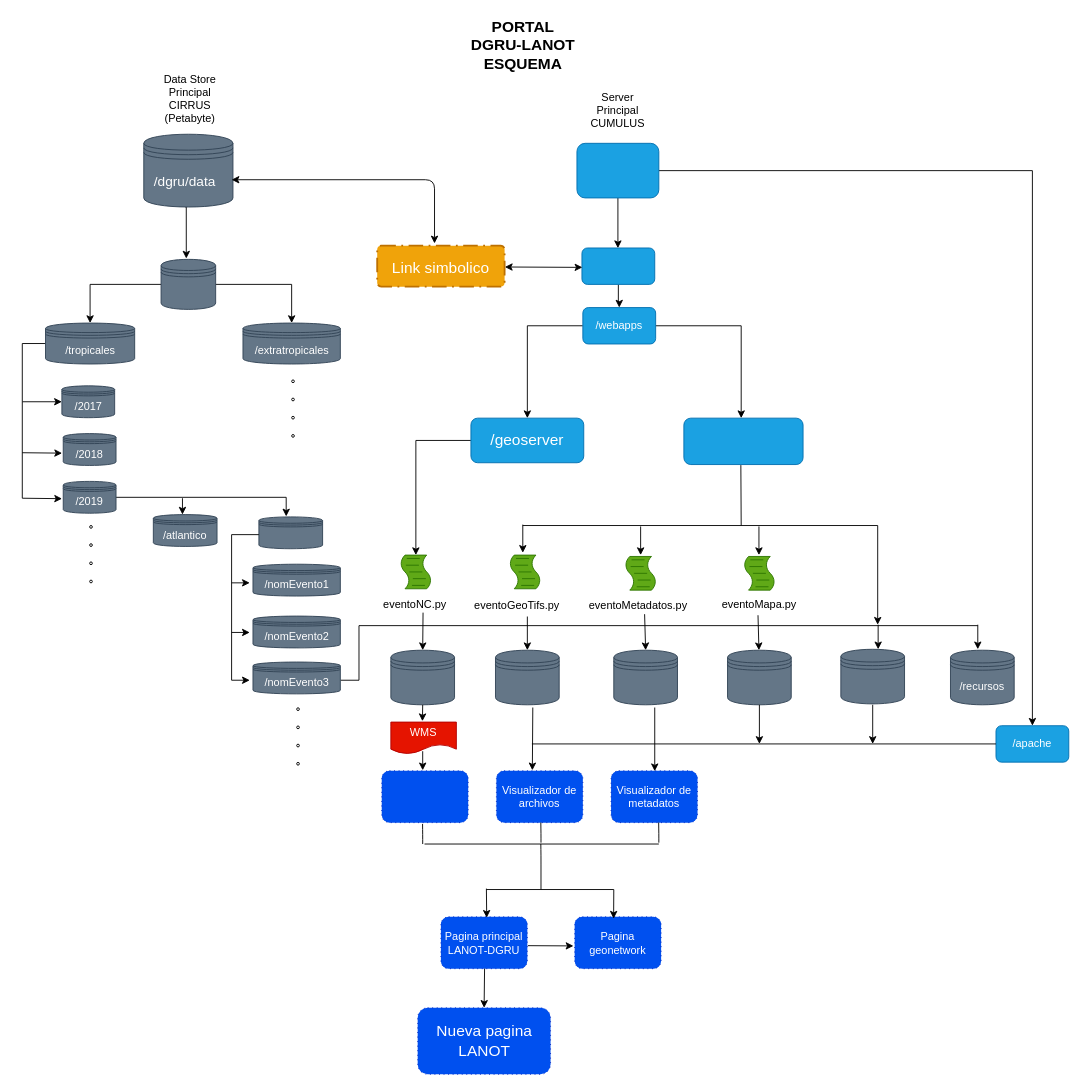
The diagram is 1085 pixels wide and 1090 high, and some of its shapes have lost their labels. Each missing label, with the centre of its shape:
"/eventoNC" belongs at (x=422, y=677).
"/eventos" belongs at (x=188, y=283).
"/geonetwork" belongs at (x=743, y=441).
"/geoTIFF" belongs at (x=527, y=677).
"/mapa" belongs at (x=759, y=677).
"/metadatos" belongs at (x=645, y=677).
"/opt" belongs at (x=617, y=170).
"/pacifico" belongs at (x=290, y=532).
"/tomcat" belongs at (x=618, y=265).
"/videos" belongs at (x=872, y=676).
"Visualizador de eventos (Animación)" belongs at (x=424, y=796).
